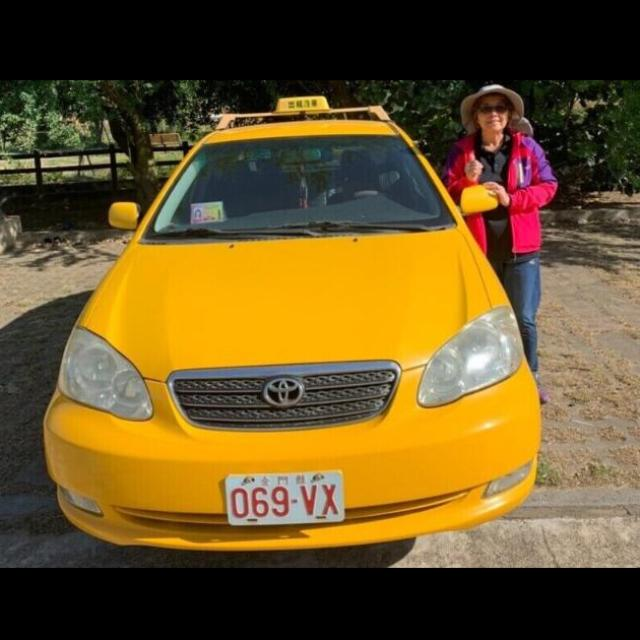license-plate: (212, 468, 356, 530)
